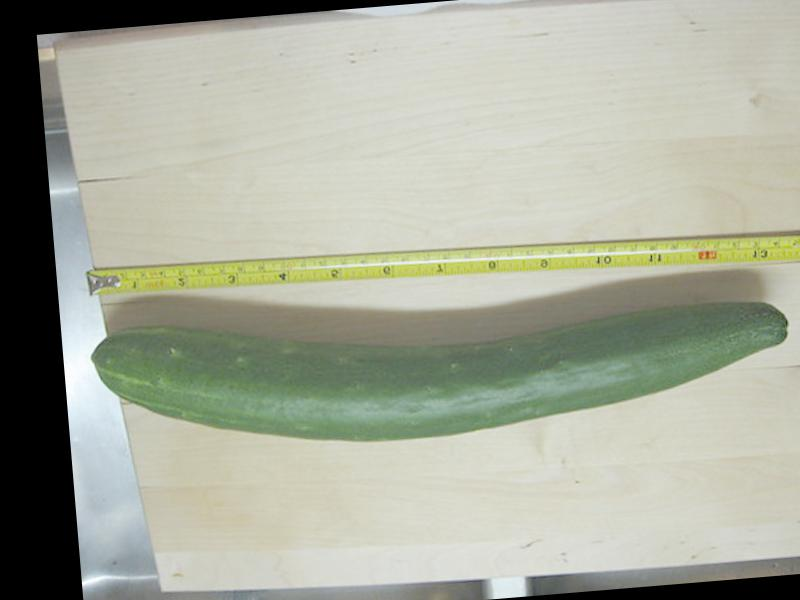Cucumber: (88, 272, 795, 464)
